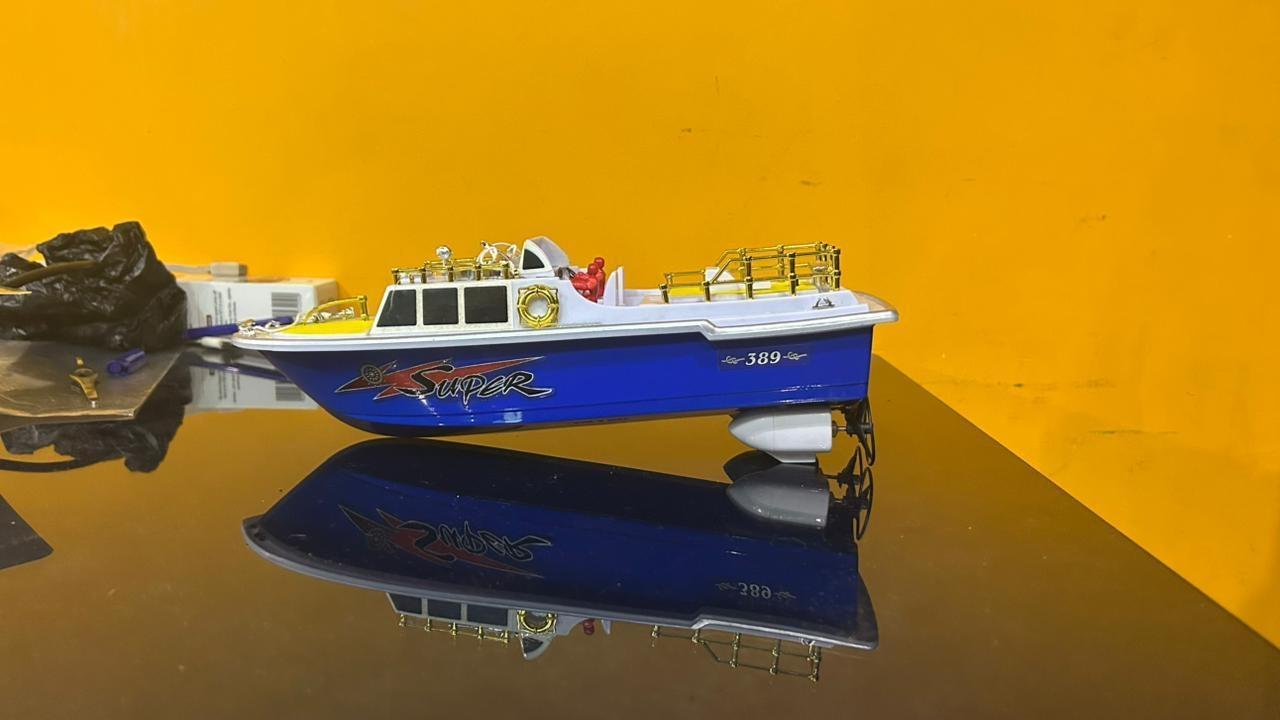Boat: (218, 228, 912, 468)
